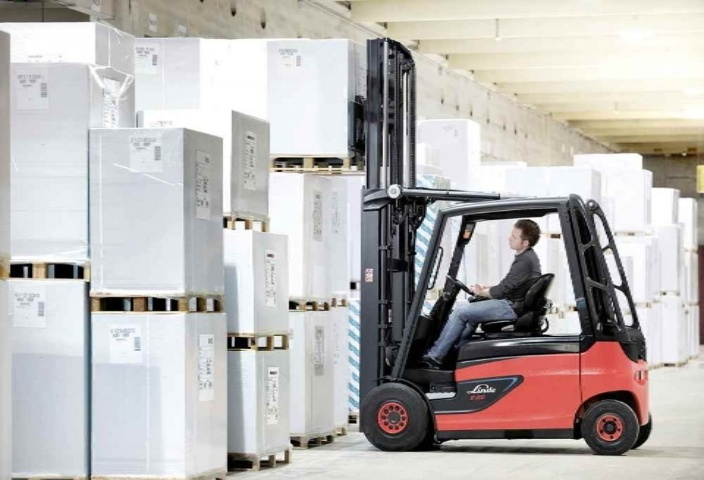industrial: (305, 41, 685, 469)
